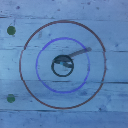Axe Tip: (56, 59, 67, 62)
